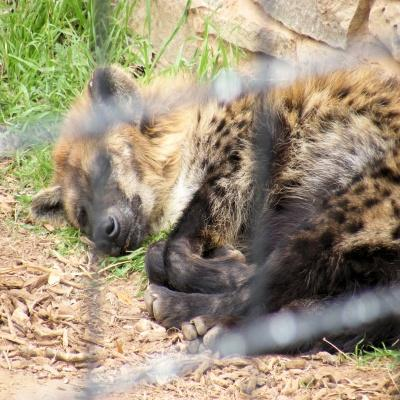hyenas: (24, 20, 400, 359)
